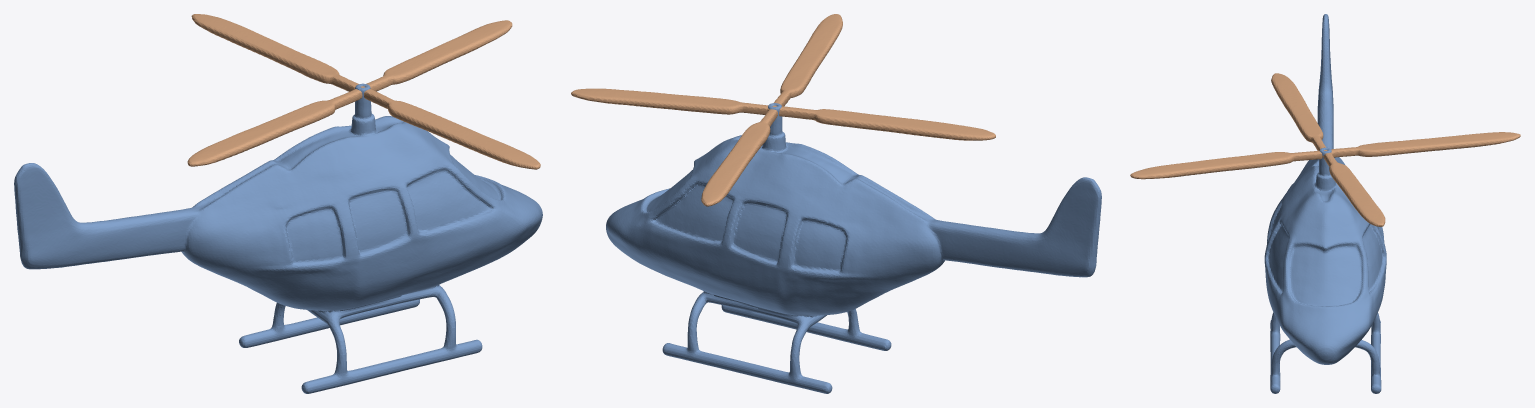
The model's file is heli1.glb.
The picture shows the model from 3 angles, left to right: view 1: azimuth 30°, elevation 25°; view 2: azimuth 150°, elevation 25°; view 3: azimuth 270°, elevation 25°; orthographic projection. The views are drawn at different scales.
Visible parts, largest first — view 1: part_0_body without rotor, part_1_rotor blades; view 2: part_0_body without rotor, part_1_rotor blades; view 3: part_0_body without rotor, part_1_rotor blades.
Boxes of the visible parts, x1,y1,x2,y2 form: part_0_body without rotor: (14,83,542,393); part_1_rotor blades: (187,14,540,169); part_0_body without rotor: (606,103,1101,393); part_1_rotor blades: (571,14,995,206); part_0_body without rotor: (1264,14,1386,393); part_1_rotor blades: (1130,73,1520,226).
Bounding box in the file's own units: 1.92 × 0.9244 × 1.52.
